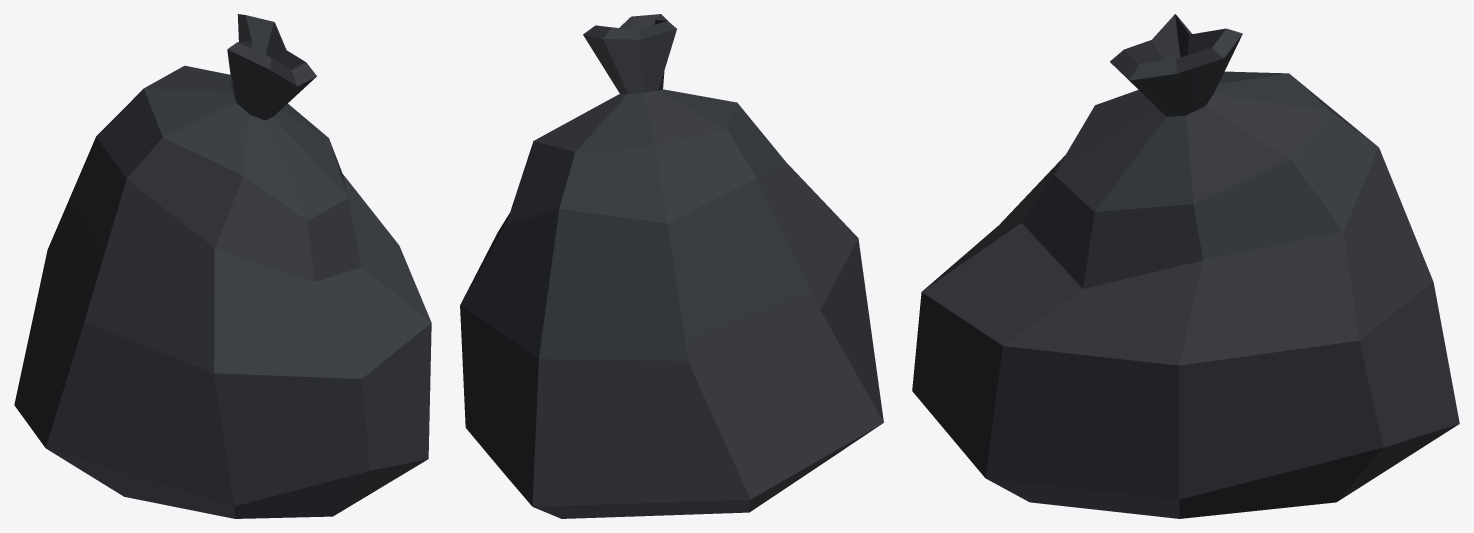
Rendered from SM_Prop_TrashBag_03.obj.
The picture shows the model from 3 angles, left to right: view 1: azimuth 30°, elevation 25°; view 2: azimuth 150°, elevation 25°; view 3: azimuth 270°, elevation 25°; orthographic projection. The views are drawn at different scales.
Visible parts, largest first — view 1: SM_Prop_TrashBag_03_0; view 2: SM_Prop_TrashBag_03_0; view 3: SM_Prop_TrashBag_03_0.
Part boxes in pixels (x1,y1,x2,y2): SM_Prop_TrashBag_03_0: (14,14,431,518); SM_Prop_TrashBag_03_0: (460,14,883,518); SM_Prop_TrashBag_03_0: (912,14,1459,518).
Bounding box in the file's own units: 0.7094 × 0.7664 × 0.8506.
1 material, 1 textured.
